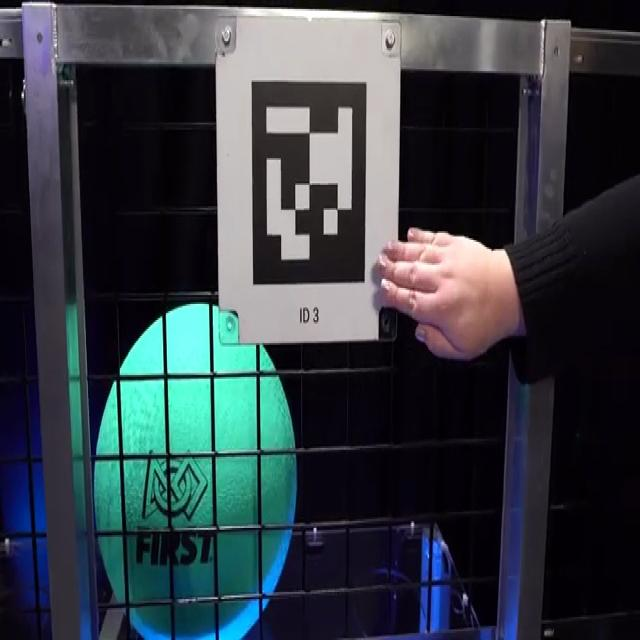Algae: (92, 298, 298, 636)
